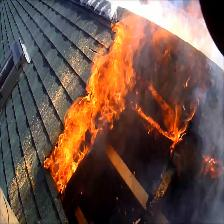fire: (97, 34, 133, 96), (67, 95, 105, 144), (48, 143, 84, 182)
